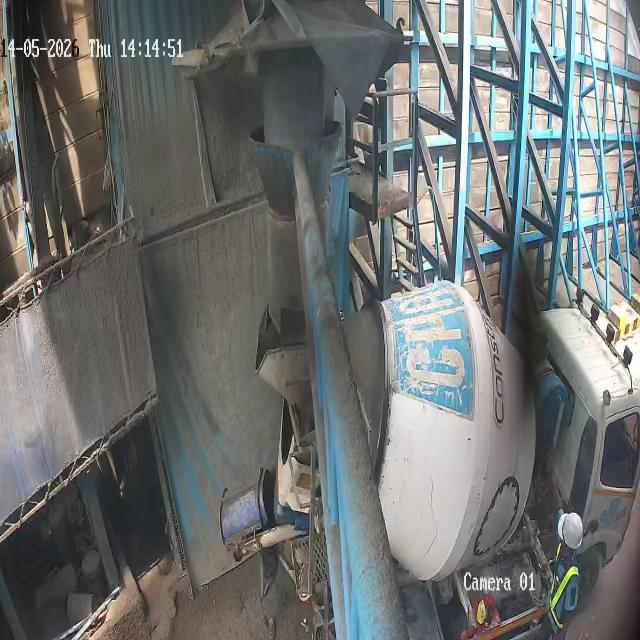cement_mixer_truck: (254, 281, 639, 639)
swing_chute: (252, 123, 341, 341)
